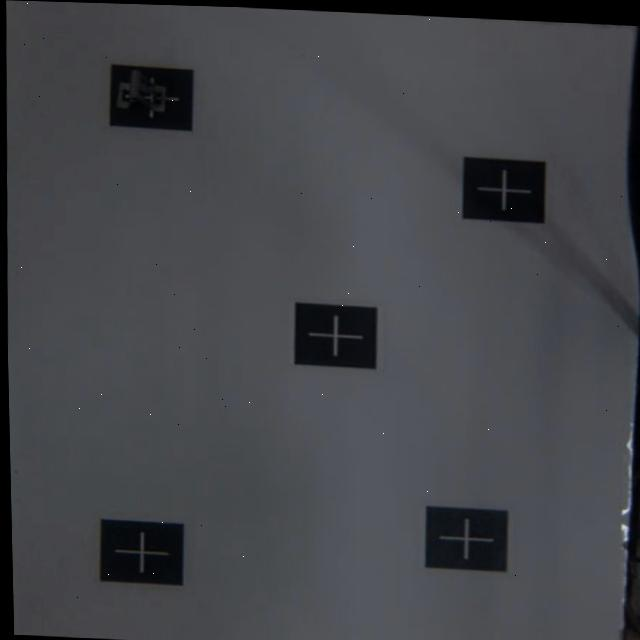pick5: (108, 60, 195, 129)
